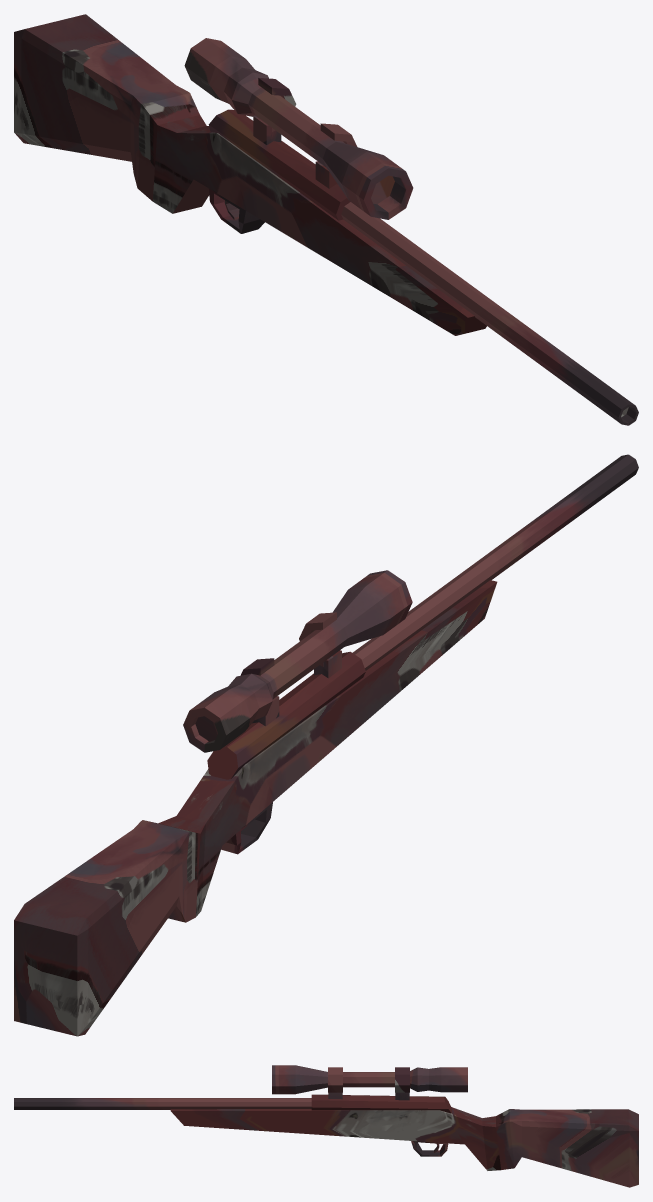
File: rifle.fbx
3 renders of one model, top to bottom at view 1: azimuth 30°, elevation 25°; view 2: azimuth 150°, elevation 25°; view 3: azimuth 270°, elevation 25°, orthographic. The views are drawn at different scales.
Parts seen in each view (by area): view 1: rifle; view 2: rifle; view 3: rifle.
Boxes of the visible parts, x1,y1,x2,y2 form: rifle: (14,14,638,425); rifle: (14,454,638,1036); rifle: (14,1065,638,1187).
Bounding box in the file's own units: 69.2 × 211 × 1052.
